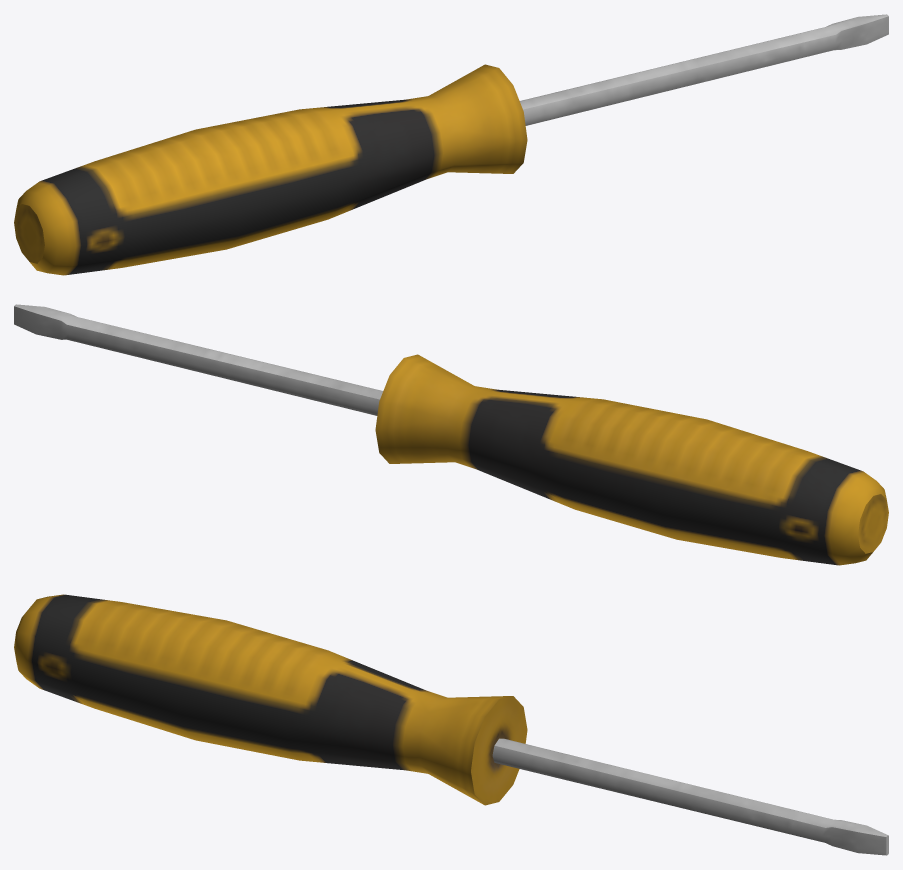
Rendered from SM_Skrewdriver.fbx.
The picture shows the model from 3 angles, top to bottom: view 1: azimuth 30°, elevation 25°; view 2: azimuth 150°, elevation 25°; view 3: azimuth 330°, elevation 25°; orthographic projection.
Visible parts, largest first — view 1: SM_Skrewdriver_LOD0; view 2: SM_Skrewdriver_LOD0; view 3: SM_Skrewdriver_LOD0.
Part boxes in pixels (bbox=[...]): SM_Skrewdriver_LOD0: bbox=[14, 14, 888, 275]; SM_Skrewdriver_LOD0: bbox=[14, 304, 888, 565]; SM_Skrewdriver_LOD0: bbox=[14, 594, 888, 855].
Bounding box in the file's own units: 30.22 × 3.78 × 3.78.
